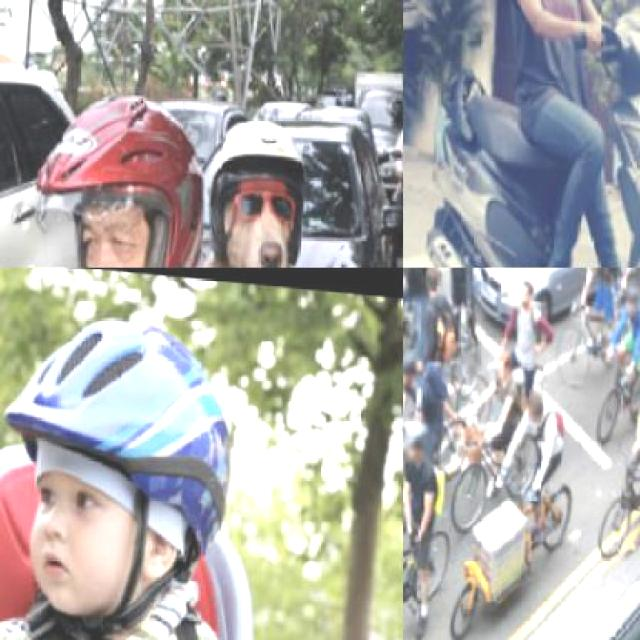With Helmet: (0, 298, 246, 636), (20, 77, 217, 266), (403, 409, 431, 465), (403, 343, 420, 395), (622, 277, 638, 318)
Without Helmet: (509, 268, 542, 312), (526, 386, 542, 420)
